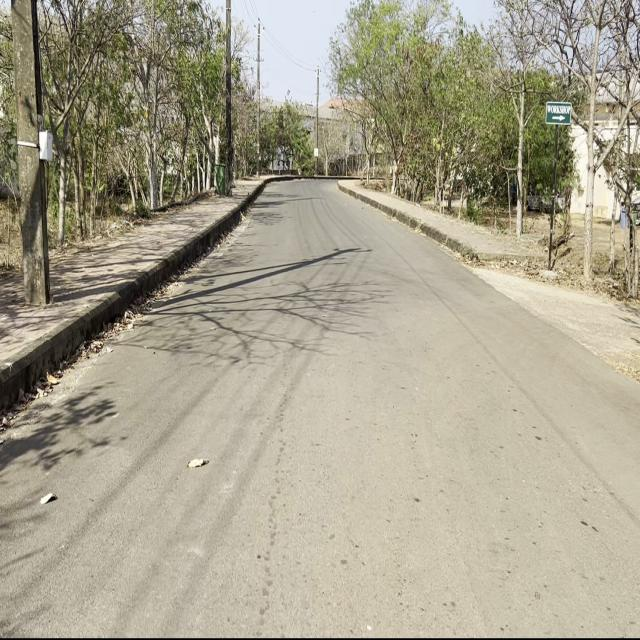Road: (1, 181, 637, 634)
